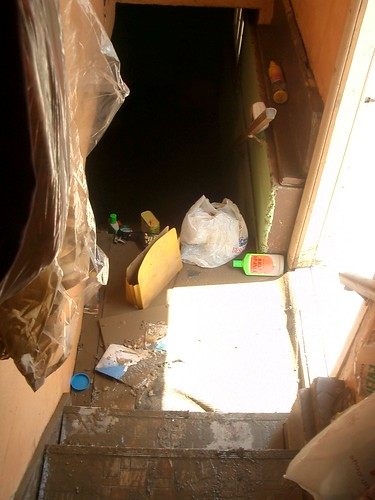door: (302, 1, 375, 398)
trash: (65, 168, 302, 471)
